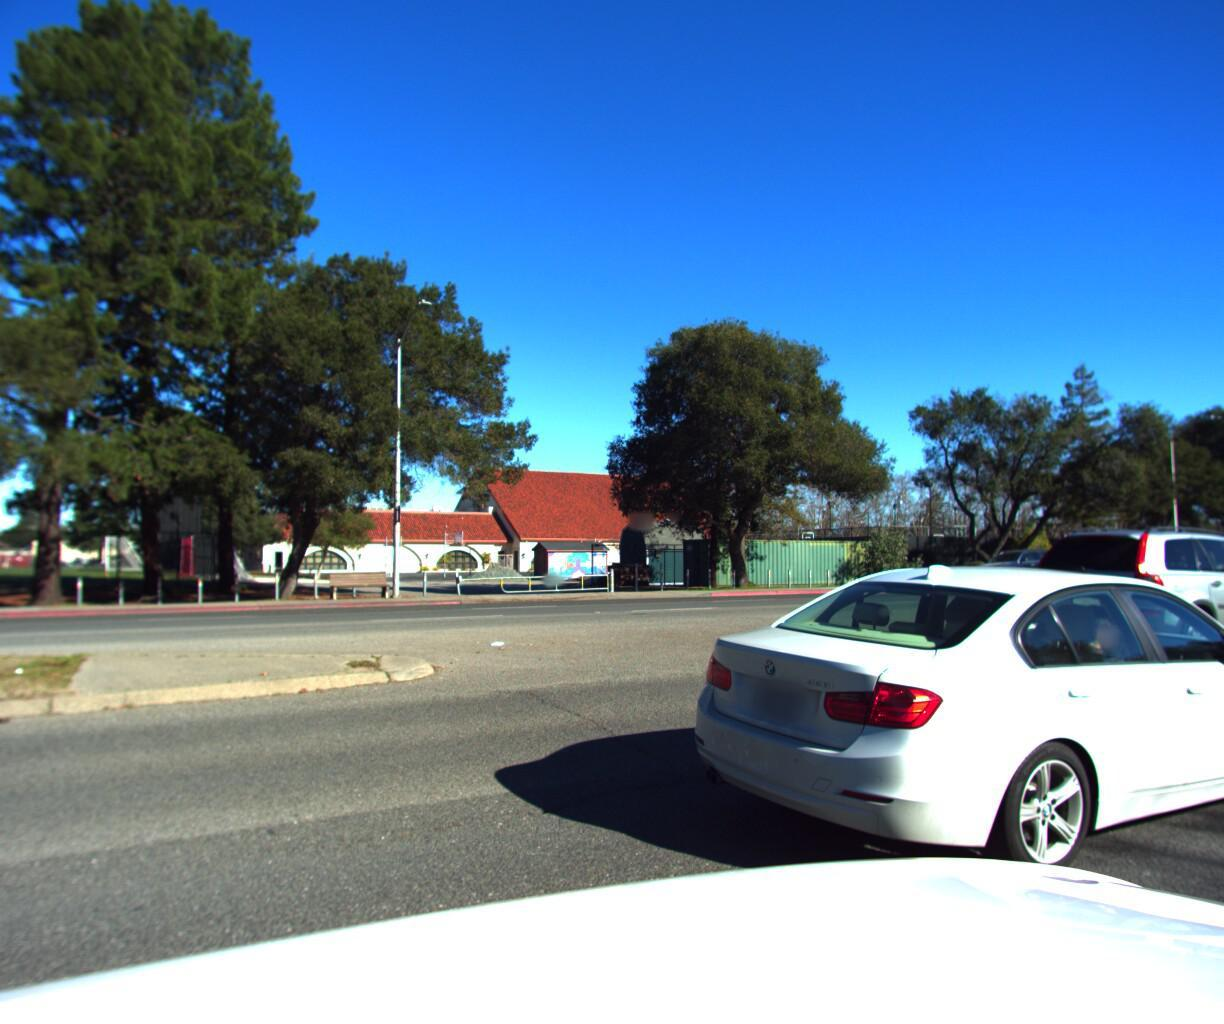car: (636, 518, 1224, 914), (1001, 502, 1224, 661), (956, 542, 1061, 583)
